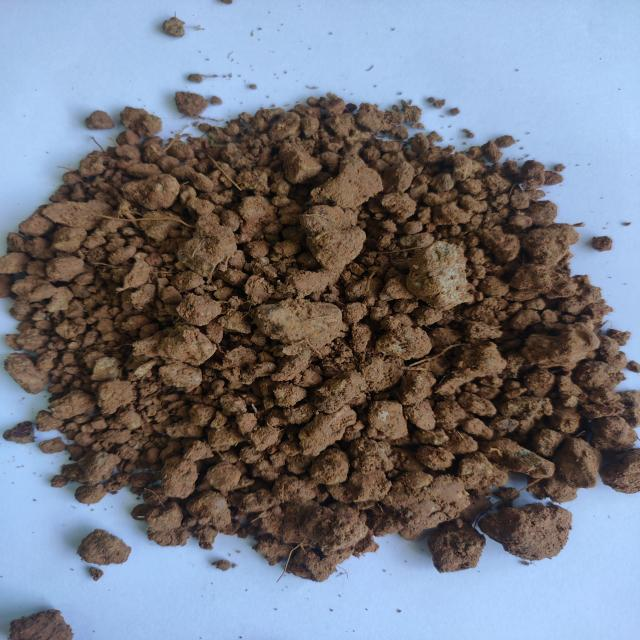soil: (31, 163, 578, 494)
